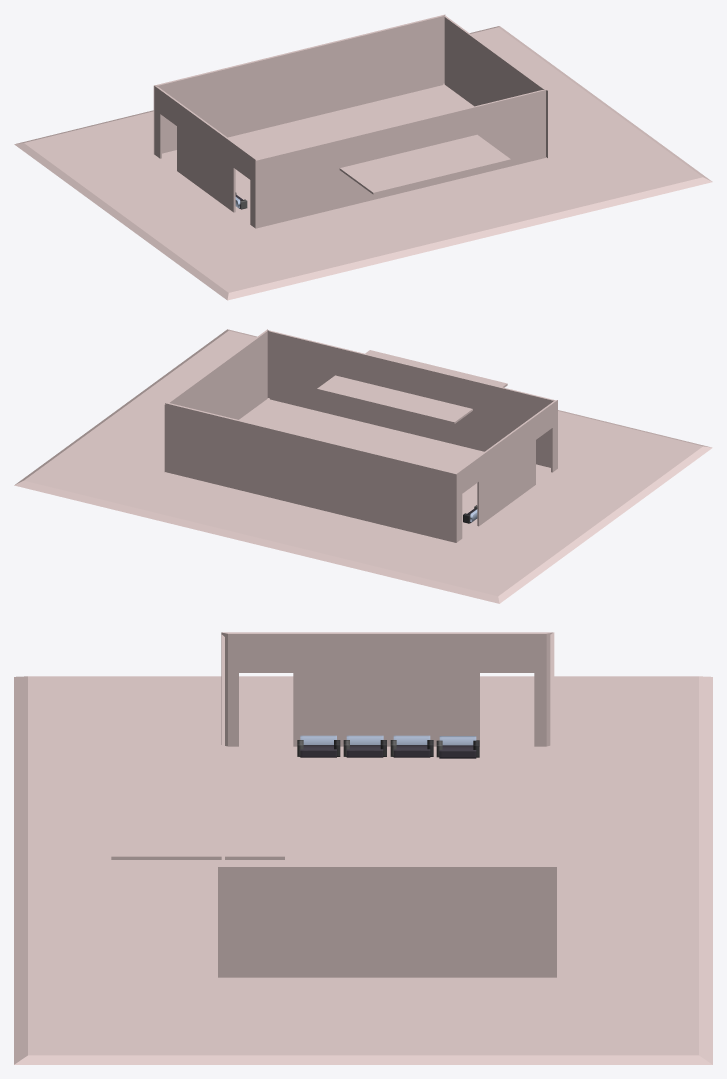
File: SFL11.glb
3 renders of one model, top to bottom at view 1: azimuth 30°, elevation 25°; view 2: azimuth 150°, elevation 25°; view 3: azimuth 270°, elevation 25°, orthographic. The views are drawn at different scales.
Visible parts, largest first — view 1: Cube, Cube.003, Cube.002, Cube.004, Cube.006, Cube.001; view 2: Cube, Cube.003, Cube.002, Cube.004, Cube.001, Cube.006; view 3: Cube, Cube.001, Cube.004, Cube.006, Cube.003, Cube.002.
Part boxes in pixels (x1,y1,x2,y2): Cube: (14,26,712,300); Cube.003: (153,14,445,153); Cube.002: (256,90,545,228); Cube.004: (154,86,255,228); Cube.006: (339,134,510,194); Cube.001: (444,15,547,157); Cube: (14,329,712,603); Cube.003: (165,403,456,542); Cube.002: (267,330,555,467); Cube.004: (456,400,557,542); Cube.001: (164,329,267,472); Cube.006: (317,350,507,424); Cube: (14,676,712,1064); Cube.001: (218,865,556,977); Cube.004: (221,632,553,746); Cube.006: (111,746,284,859); Cube.003: (550,632,554,864); Cube.002: (221,635,224,865).
Size of the model in its own units: 131 by 18.7 by 100.
